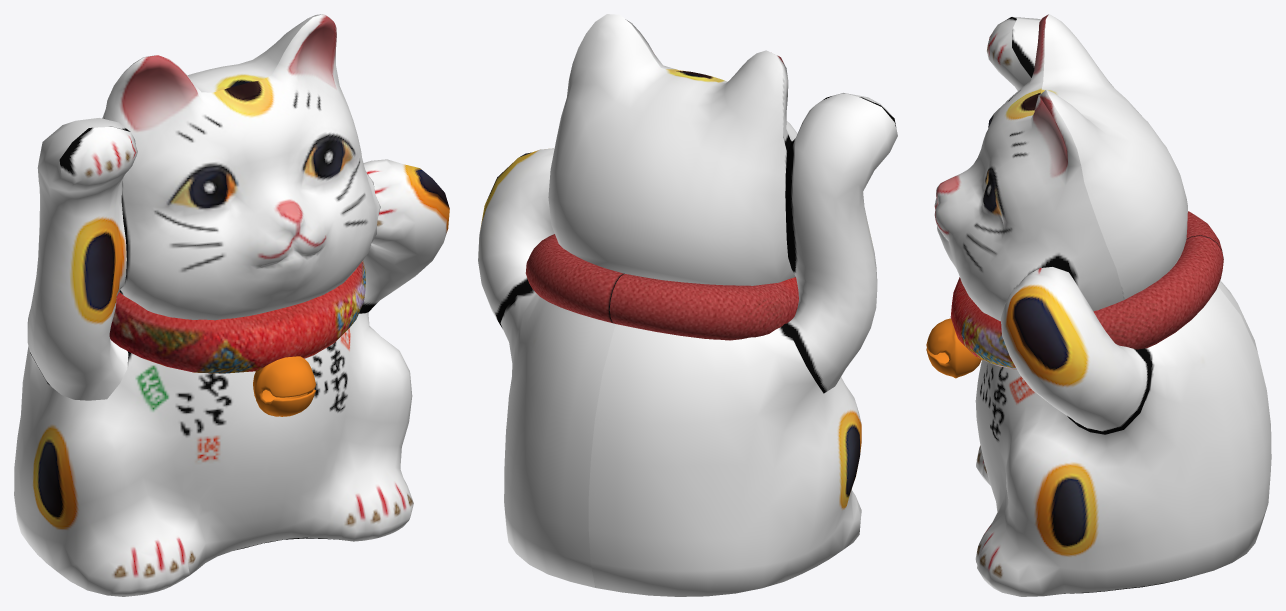
File: Maneki Neko.fbx
The picture shows the model from 3 angles, left to right: view 1: azimuth 30°, elevation 25°; view 2: azimuth 150°, elevation 25°; view 3: azimuth 270°, elevation 25°; orthographic projection. The views are drawn at different scales.
Visible parts, largest first — view 1: Maneki_Neko; view 2: Maneki_Neko; view 3: Maneki_Neko.
Boxes of the visible parts, x1,y1,x2,y2 form: Maneki_Neko: [14, 14, 449, 596]; Maneki_Neko: [478, 14, 897, 596]; Maneki_Neko: [926, 14, 1271, 596].
Bounding box in the file's own units: 1378 × 1638 × 1078.
Materials: 1 (1 with a texture image).
